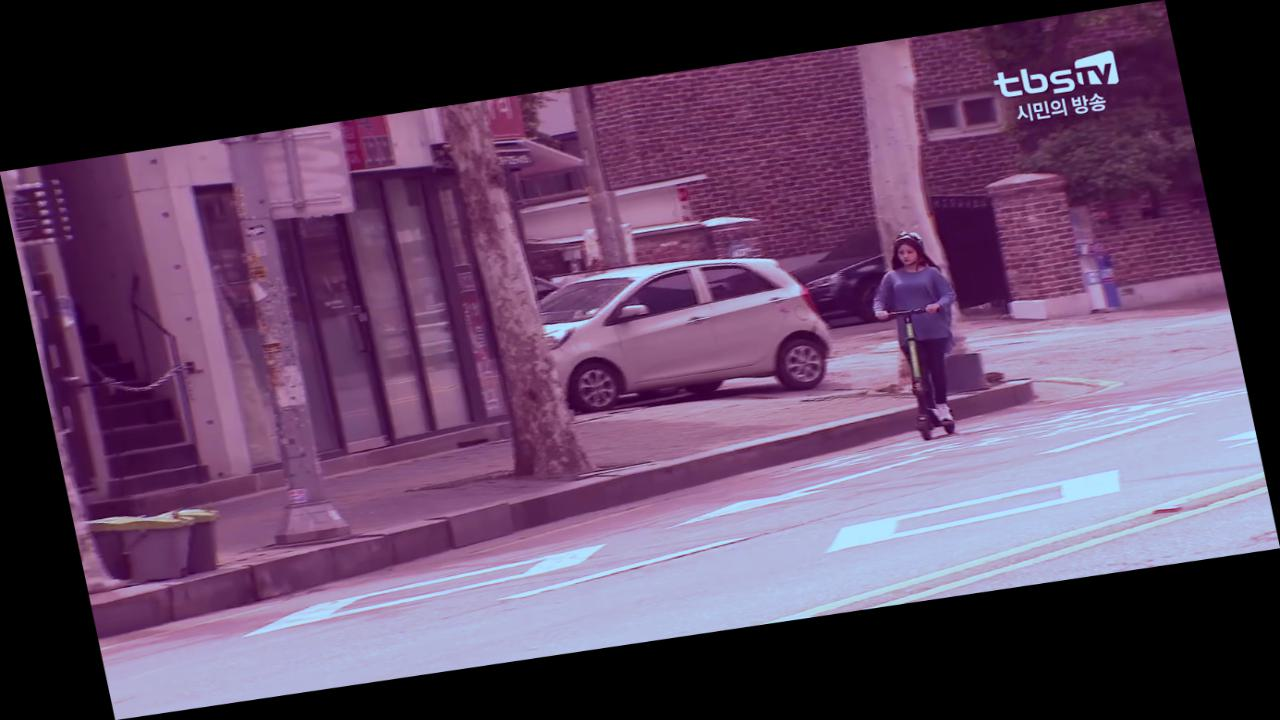helmet: (855, 225, 985, 444)
